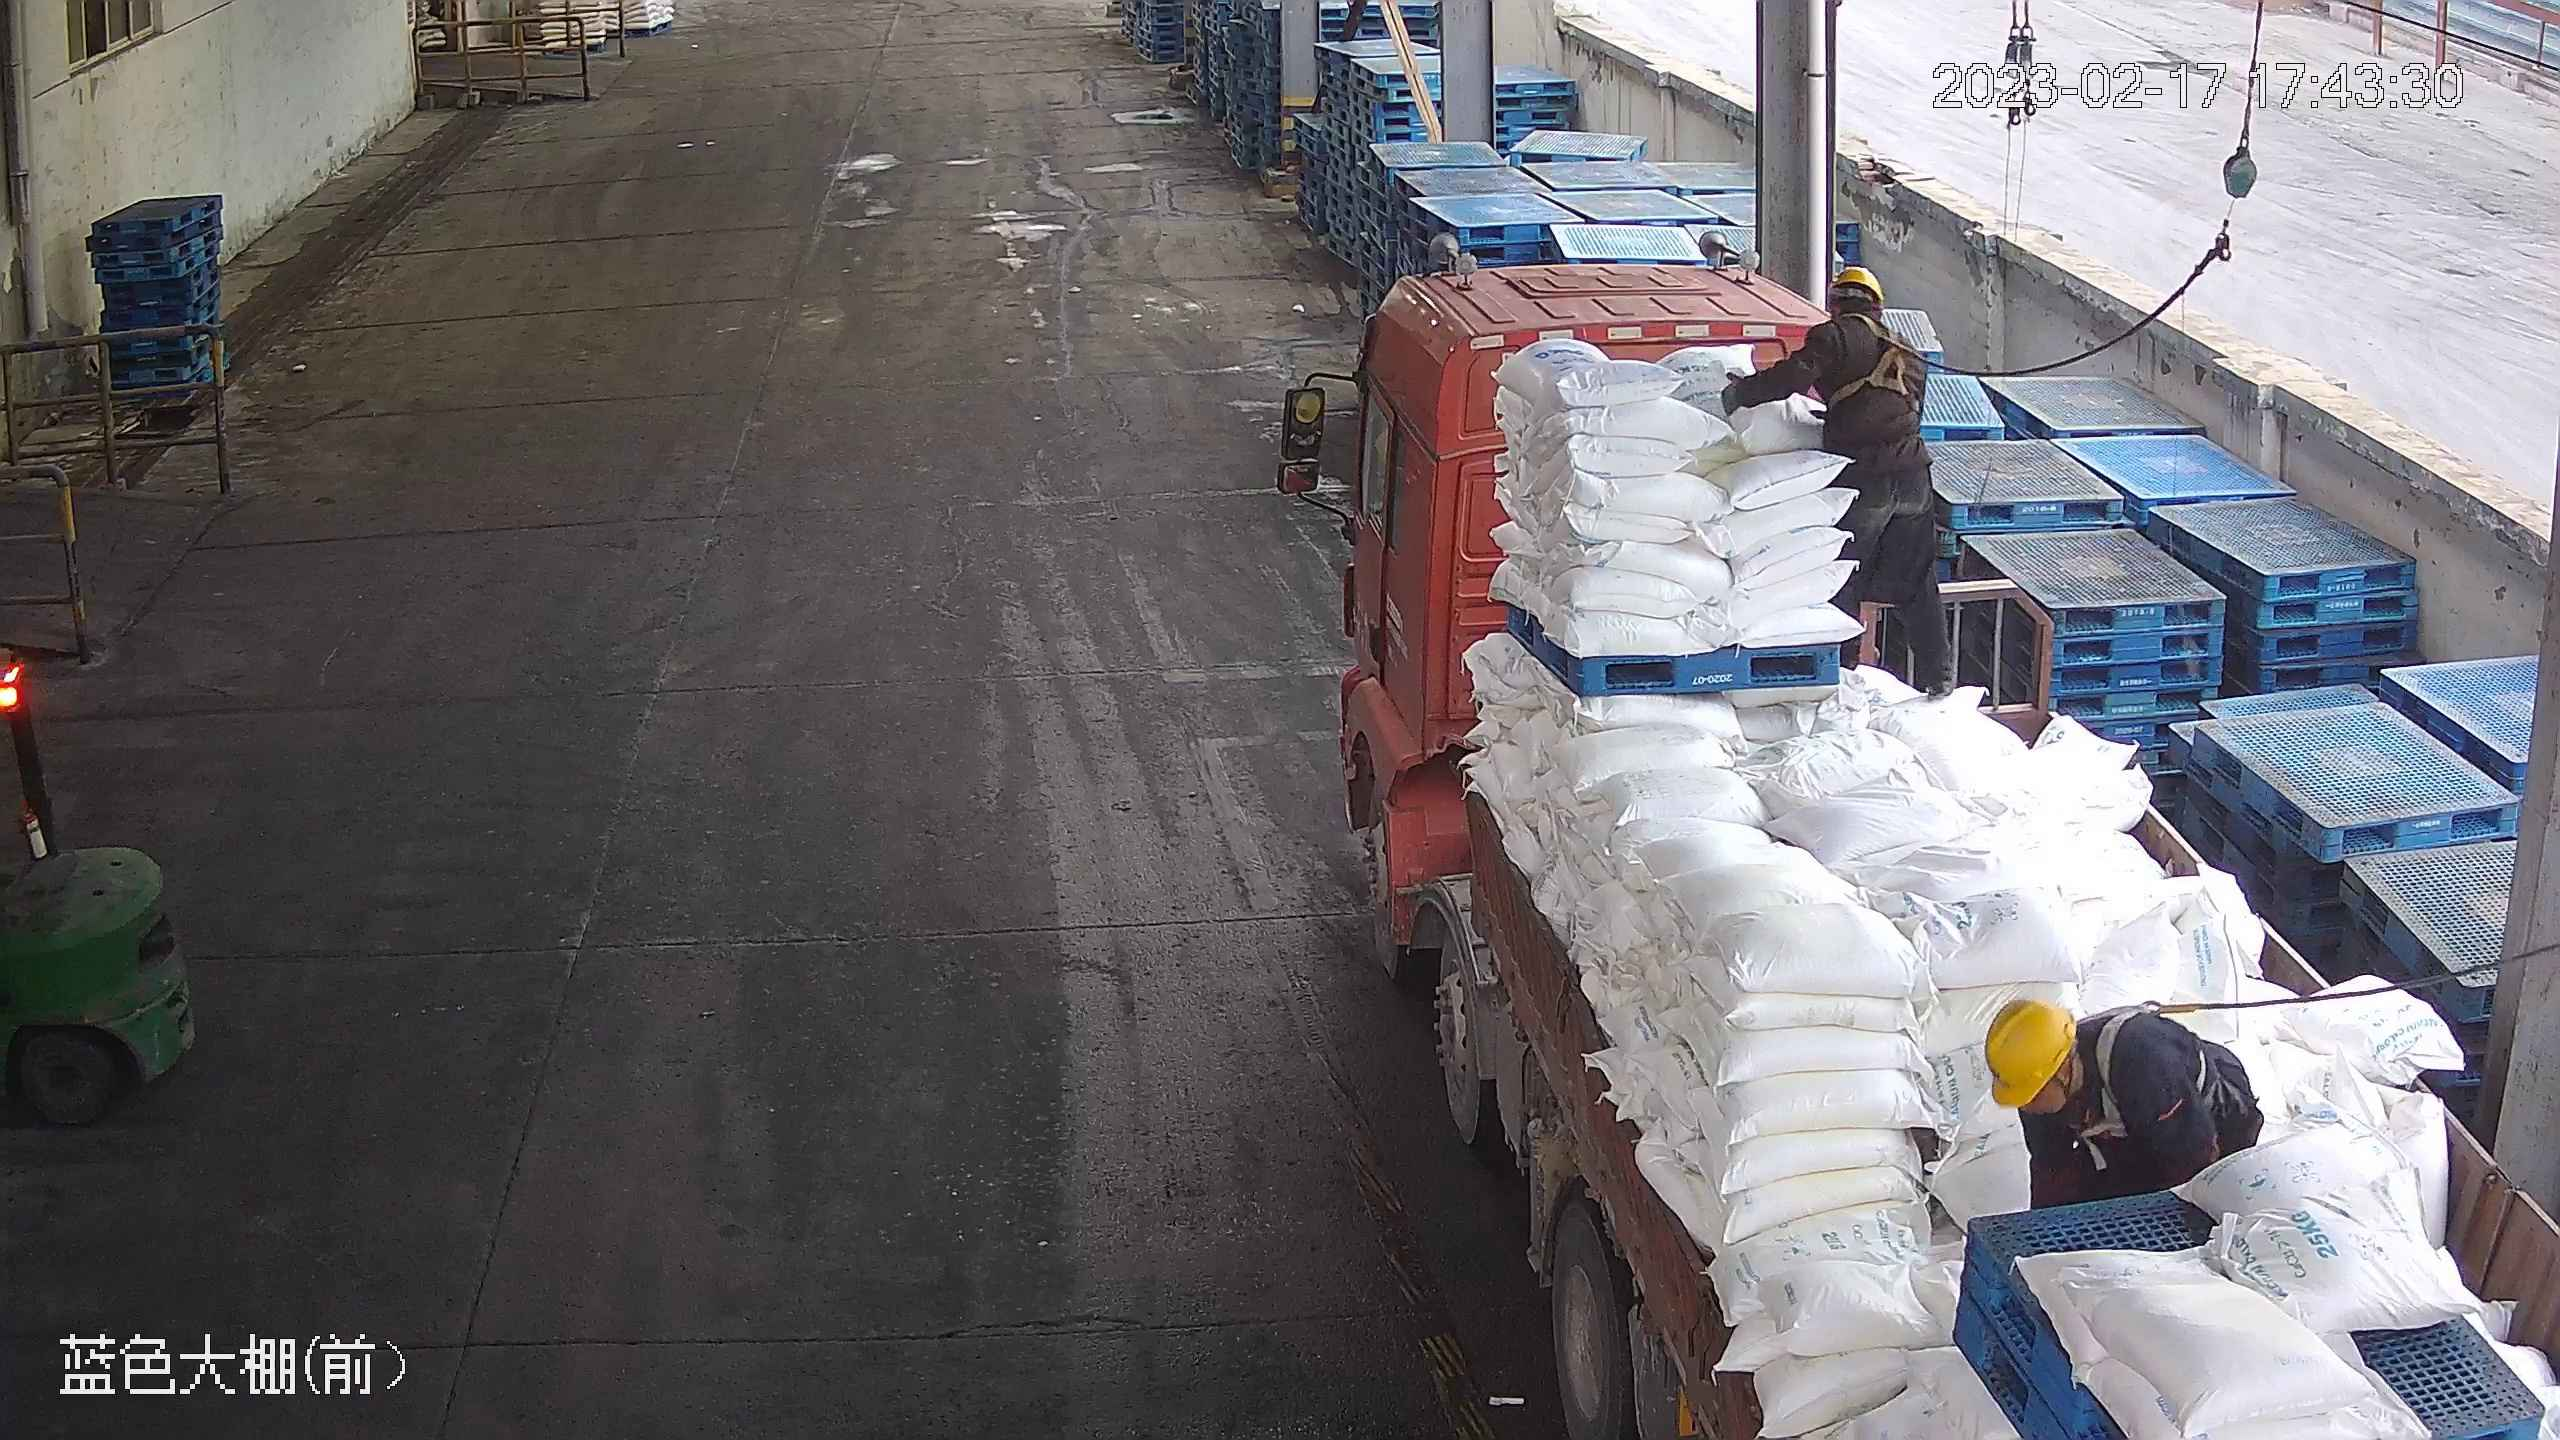belt: (2078, 1003, 2208, 1167), (1827, 311, 1925, 408)
head: (1983, 994, 2152, 1147), (1788, 267, 1932, 422)
helmet: (1983, 1001, 2074, 1110), (1823, 267, 1884, 311)
people: (1718, 264, 1962, 693), (1978, 993, 2259, 1213)
truck: (1278, 242, 2560, 1440)
